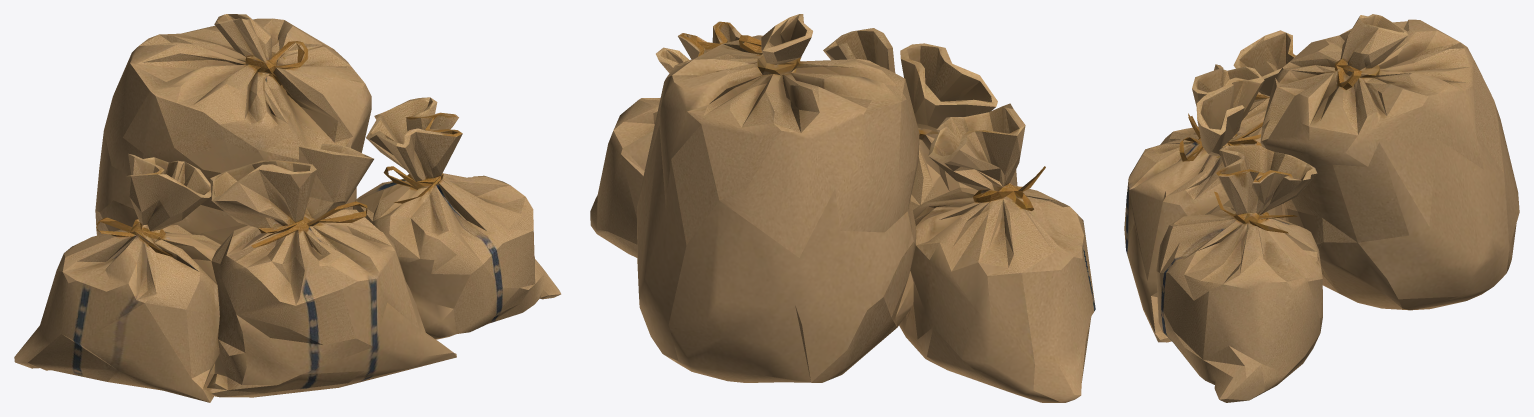
The model's file is sacks-pile.hq.glb.
The picture shows the model from 3 angles, left to right: view 1: azimuth 30°, elevation 25°; view 2: azimuth 150°, elevation 25°; view 3: azimuth 270°, elevation 25°; orthographic projection. The views are drawn at different scales.
Parts seen in each view (by area): view 1: output_unwrapped; view 2: output_unwrapped; view 3: output_unwrapped.
Part boxes in pixels (bbox=[...]): output_unwrapped: bbox=[14, 14, 561, 402]; output_unwrapped: bbox=[590, 14, 1095, 402]; output_unwrapped: bbox=[1124, 14, 1519, 402].
Bounding box in the file's own units: 1.9 × 1.09 × 1.41.
Materials: 1 (1 with a texture image).
